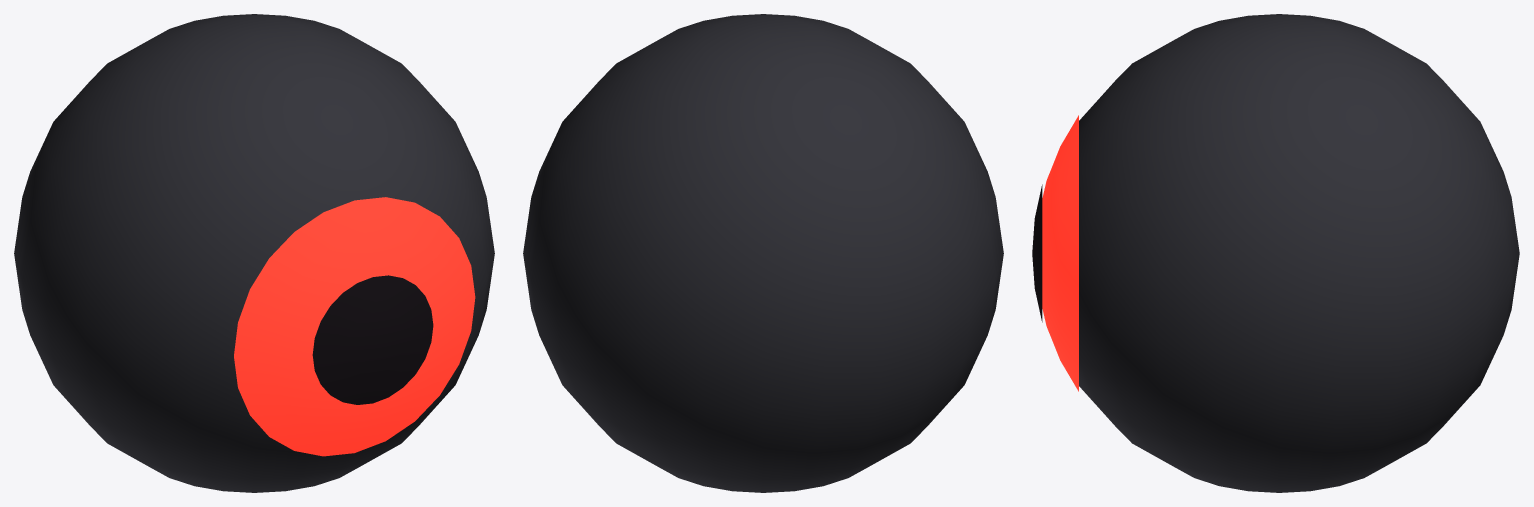
Rendered from eye.glb.
3 views of the same model, side by side, from view 1: azimuth 30°, elevation 25°; view 2: azimuth 150°, elevation 25°; view 3: azimuth 270°, elevation 25° (orthographic).
Parts seen in each view (by area): view 1: Eye_Sclera, Eye_Iris, Eye_Pupil; view 2: Eye_Sclera; view 3: Eye_Sclera, Eye_Iris, Eye_Pupil.
Part boxes in pixels (x1,y1,x2,y2): Eye_Sclera: [14, 14, 494, 492]; Eye_Iris: [234, 197, 475, 456]; Eye_Pupil: [312, 275, 433, 404]; Eye_Sclera: [523, 14, 1003, 492]; Eye_Sclera: [1079, 14, 1519, 492]; Eye_Iris: [1042, 115, 1078, 391]; Eye_Pupil: [1032, 184, 1042, 322].
Size of the model in its own units: 2 by 2 by 2.03.
